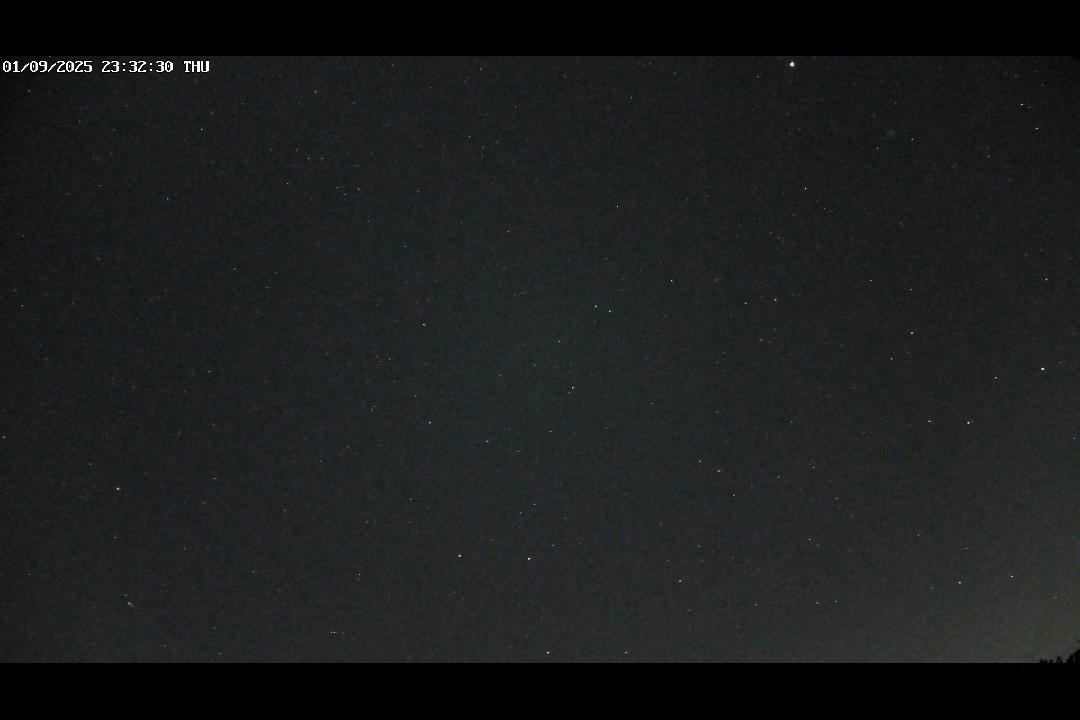Plane: (124, 597, 150, 622)
